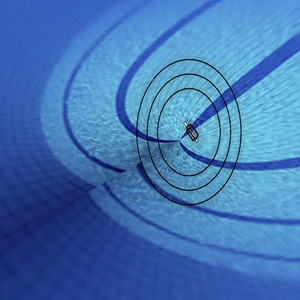circle: (129, 49, 252, 210)
submarine: (173, 115, 206, 152)
